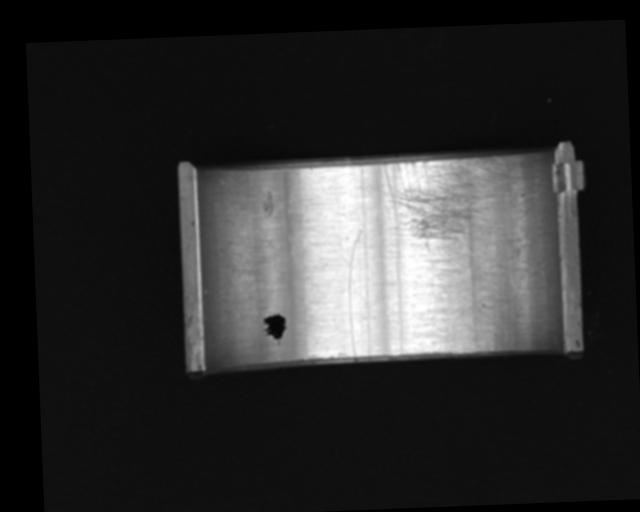blot: (262, 312, 288, 346)
bruise: (260, 189, 276, 216)
nick: (345, 227, 368, 359)
scratch: (381, 152, 504, 253)
